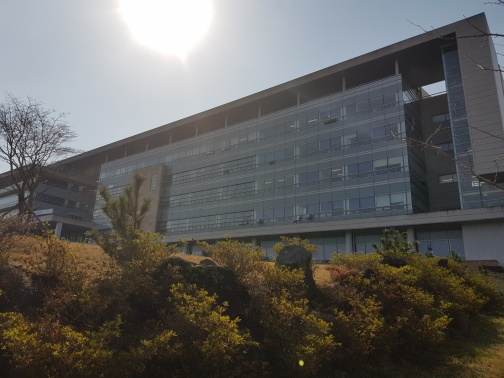Engineering College Building 4: (22, 122, 503, 246), (309, 38, 495, 258), (162, 92, 301, 251)
